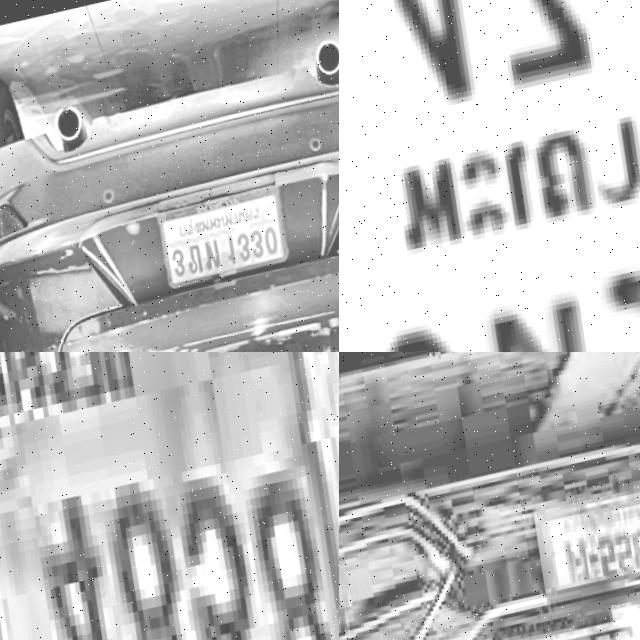license-plate: (339, 0, 640, 352), (0, 352, 339, 640), (524, 478, 640, 617), (158, 188, 294, 293)
